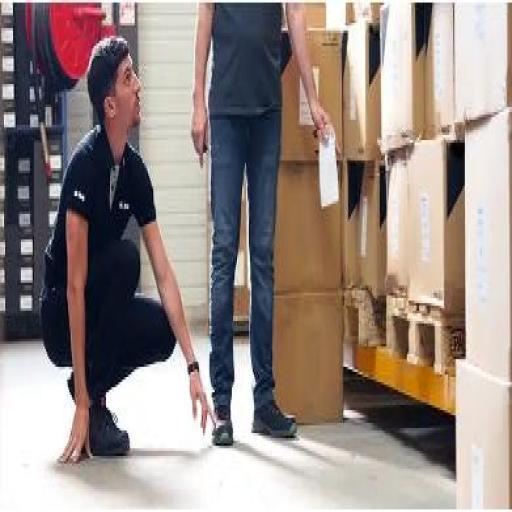safety_boots: (94, 406, 139, 461), (253, 401, 302, 447), (210, 407, 241, 449)
